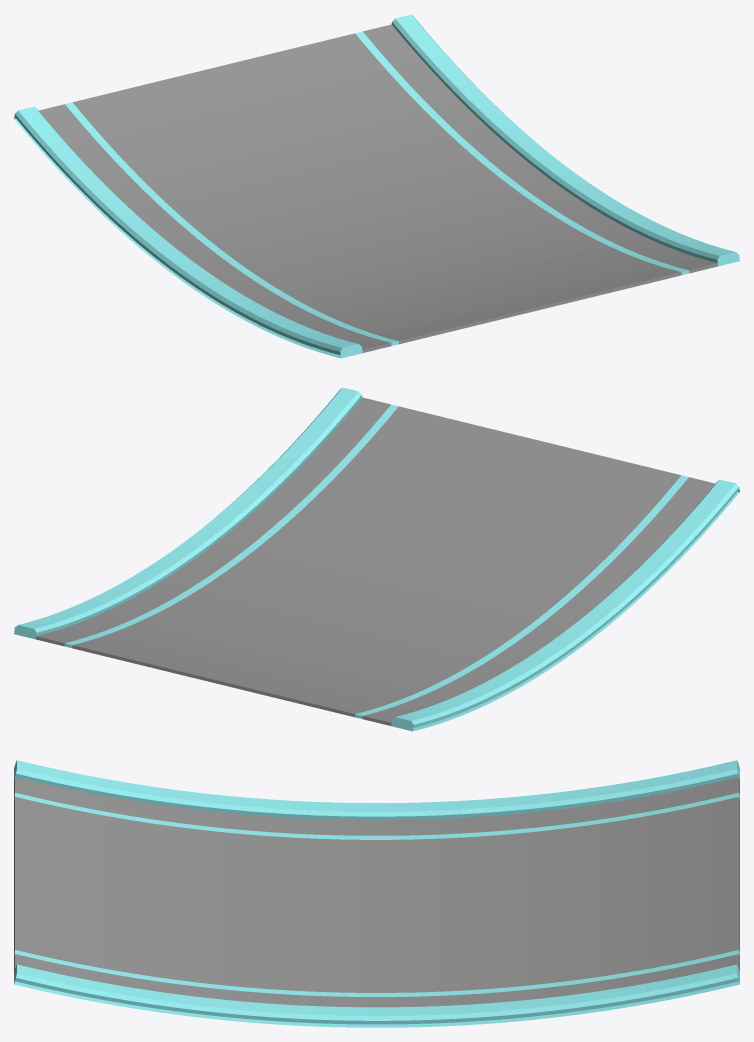
Rendered from NEW RAMP 30@.FBX.
The picture shows the model from 3 angles, top to bottom: view 1: azimuth 30°, elevation 25°; view 2: azimuth 150°, elevation 25°; view 3: azimuth 270°, elevation 25°; orthographic projection. The views are drawn at different scales.
Parts seen in each view (by area): view 1: Plane002; view 2: Plane002; view 3: Plane002.
Part boxes in pixels (x1,y1,x2,y2): Plane002: (14, 14, 739, 358); Plane002: (14, 387, 739, 731); Plane002: (14, 760, 739, 1027).
Size of the model in its own units: 0.0075 by 0.00086 by 0.0107.
